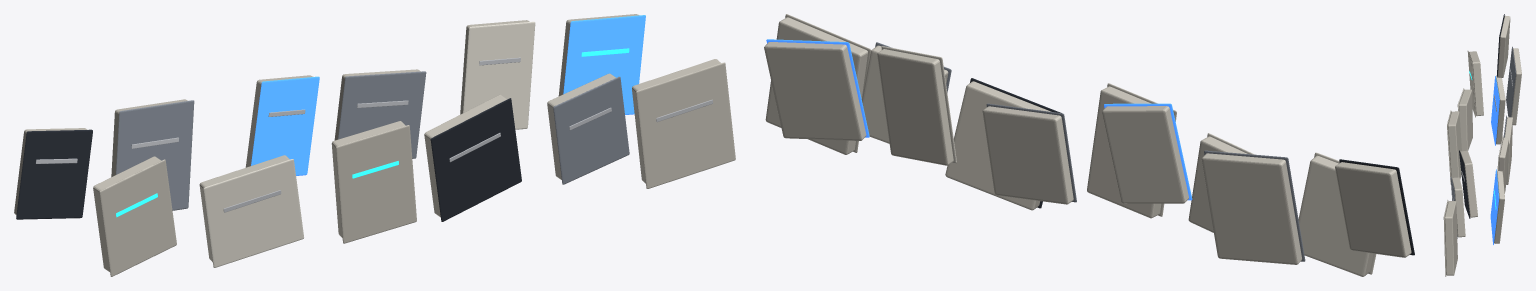
The model's file is hero-documents-tablet.glb.
3 renders of one model, left to right at view 1: azimuth 30°, elevation 25°; view 2: azimuth 150°, elevation 25°; view 3: azimuth 270°, elevation 25°, orthographic. The views are drawn at different scales.
Parts seen in each view (by area): view 1: Knowledge Notes spine, Contract spine, Spreadsheet spine, Policy spine, Research Paper spine, Annual Report spine, Dataset Dictionary spine, Support Logs spine, Technical Manual spine, Public Filing spine, Presentation spine, Scanned Archive spine (+12 smaller); view 2: Technical Manual volume, Public Filing volume, Scanned Archive volume, Presentation volume, Dataset Dictionary volume, Annual Report volume, Research Paper volume, Policy volume, Spreadsheet volume, Knowledge Notes volume, Support Logs volume, Contract volume (+7 smaller); view 3: Knowledge Notes volume, Spreadsheet volume, Contract volume, Policy volume, Research Paper volume, Annual Report volume, Support Logs volume, Technical Manual volume, Public Filing volume, Presentation volume, Technical Manual spine, Public Filing spine (+9 smaller).
Boxes of the visible parts, bbox=[...] form: Knowledge Notes spine: bbox=[636, 62, 735, 188]; Contract spine: bbox=[203, 159, 303, 267]; Spreadsheet spine: bbox=[335, 125, 416, 243]; Policy spine: bbox=[430, 98, 521, 221]; Research Paper spine: bbox=[99, 159, 176, 276]; Annual Report spine: bbox=[16, 129, 92, 219]; Dataset Dictionary spine: bbox=[463, 21, 535, 129]; Support Logs spine: bbox=[553, 76, 629, 184]; Technical Manual spine: bbox=[116, 100, 194, 210]; Public Filing spine: bbox=[563, 15, 645, 114]; Presentation spine: bbox=[251, 76, 319, 175]; Scanned Archive spine: bbox=[338, 71, 426, 158]; Technical Manual volume: bbox=[1201, 153, 1301, 264]; Public Filing volume: bbox=[764, 42, 866, 140]; Scanned Archive volume: bbox=[982, 106, 1073, 204]; Presentation volume: bbox=[1102, 106, 1188, 203]; Dataset Dictionary volume: bbox=[877, 49, 953, 165]; Annual Report volume: bbox=[1335, 162, 1411, 257]; Research Paper volume: bbox=[1298, 155, 1373, 276]; Policy volume: bbox=[945, 81, 1051, 210]; Spreadsheet volume: bbox=[1087, 86, 1161, 218]; Knowledge Notes volume: bbox=[765, 17, 867, 154]; Support Logs volume: bbox=[862, 45, 948, 143]; Contract volume: bbox=[1188, 136, 1247, 232]; Knowledge Notes volume: bbox=[1444, 201, 1457, 275]; Spreadsheet volume: bbox=[1448, 111, 1461, 179]; Contract volume: bbox=[1459, 89, 1472, 151]; Policy volume: bbox=[1460, 150, 1477, 217]; Research Paper volume: bbox=[1469, 51, 1483, 115]; Annual Report volume: bbox=[1498, 15, 1510, 77]; Support Logs volume: bbox=[1452, 177, 1465, 237]; Technical Manual volume: bbox=[1511, 48, 1521, 125]; Public Filing volume: bbox=[1494, 171, 1504, 243]; Presentation volume: bbox=[1496, 77, 1505, 144]; Technical Manual spine: bbox=[1506, 46, 1516, 117]; Public Filing spine: bbox=[1490, 169, 1499, 244].
Bounding box in the file's own units: 8.28 × 2.44 × 1.51.
